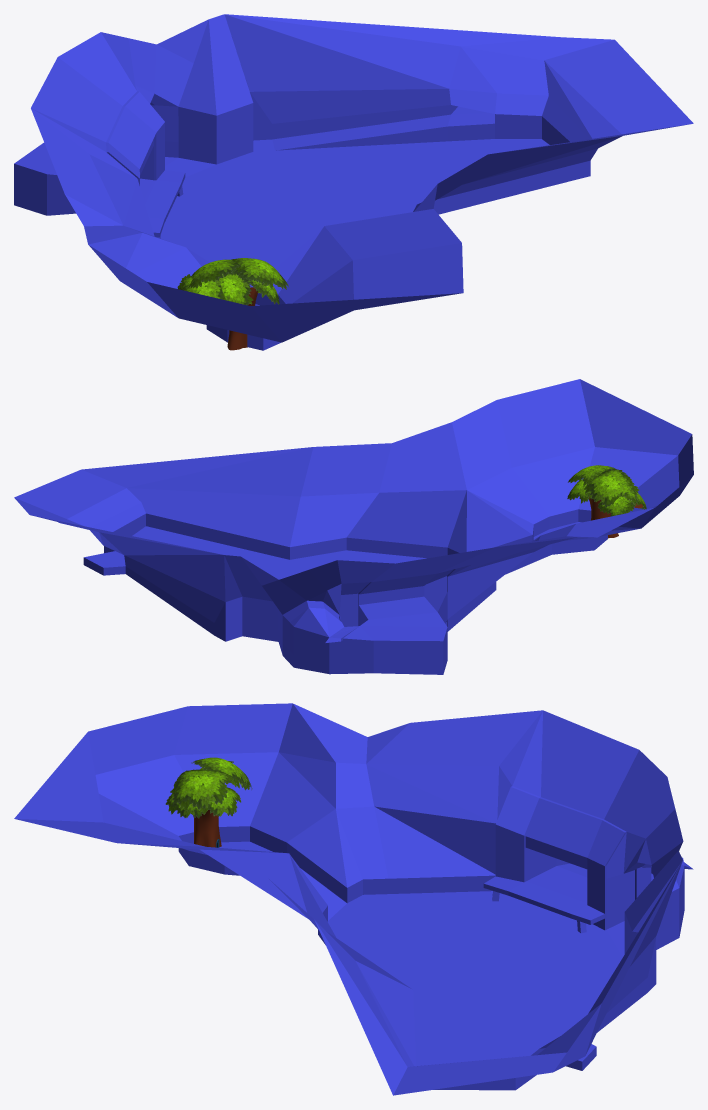
The model's file is forest_1_v0.1.fbx.
The picture shows the model from 3 angles, top to bottom: view 1: azimuth 30°, elevation 25°; view 2: azimuth 150°, elevation 25°; view 3: azimuth 270°, elevation 25°; orthographic projection. The views are drawn at different scales.
Visible parts, largest first — view 1: level, tree-leaf-texture.002; view 2: level, tree-leaf-texture.002; view 3: level, tree-leaf-texture.002.
Part boxes in pixels (<box>): level: <box>14,14,693,350</box>; tree-leaf-texture.002: <box>177,258,288,350</box>; level: <box>14,379,693,674</box>; tree-leaf-texture.002: <box>567,465,646,538</box>; level: <box>14,703,693,1095</box>; tree-leaf-texture.002: <box>165,757,252,847</box>.
Bounding box in the file's own units: 42305 × 9069 × 38291.
